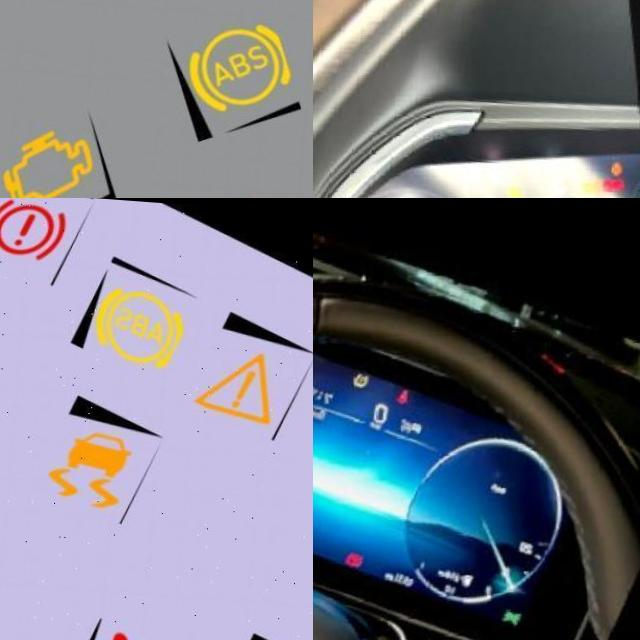Low fuel level: (475, 561, 492, 578)
